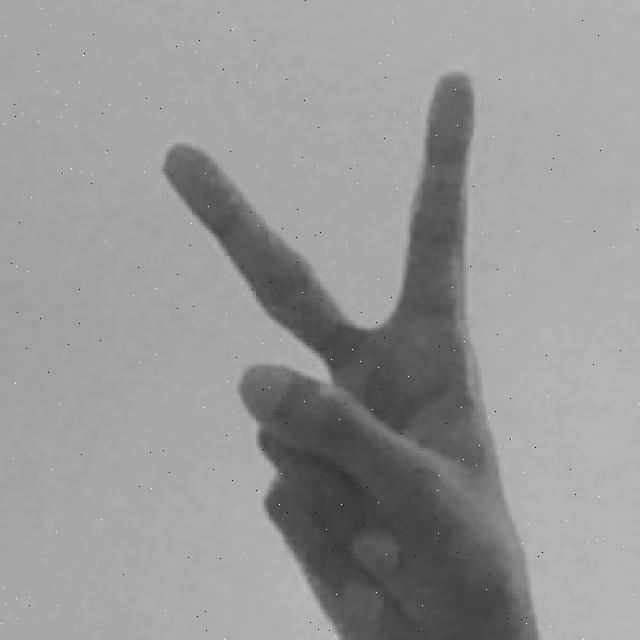V: (163, 64, 538, 640)
